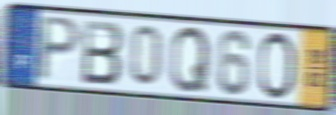0: (127, 23, 166, 89)
6: (216, 28, 252, 98)
B: (81, 17, 126, 87)
O: (256, 30, 298, 102)
P: (34, 14, 83, 84)
Q: (168, 24, 212, 95)
